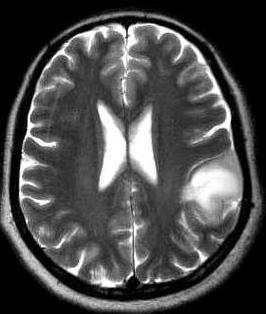Normal_Brain: (11, 1, 266, 314)
